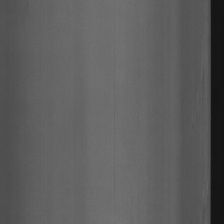silk_spot: (195, 24, 209, 107), (199, 173, 209, 221)
